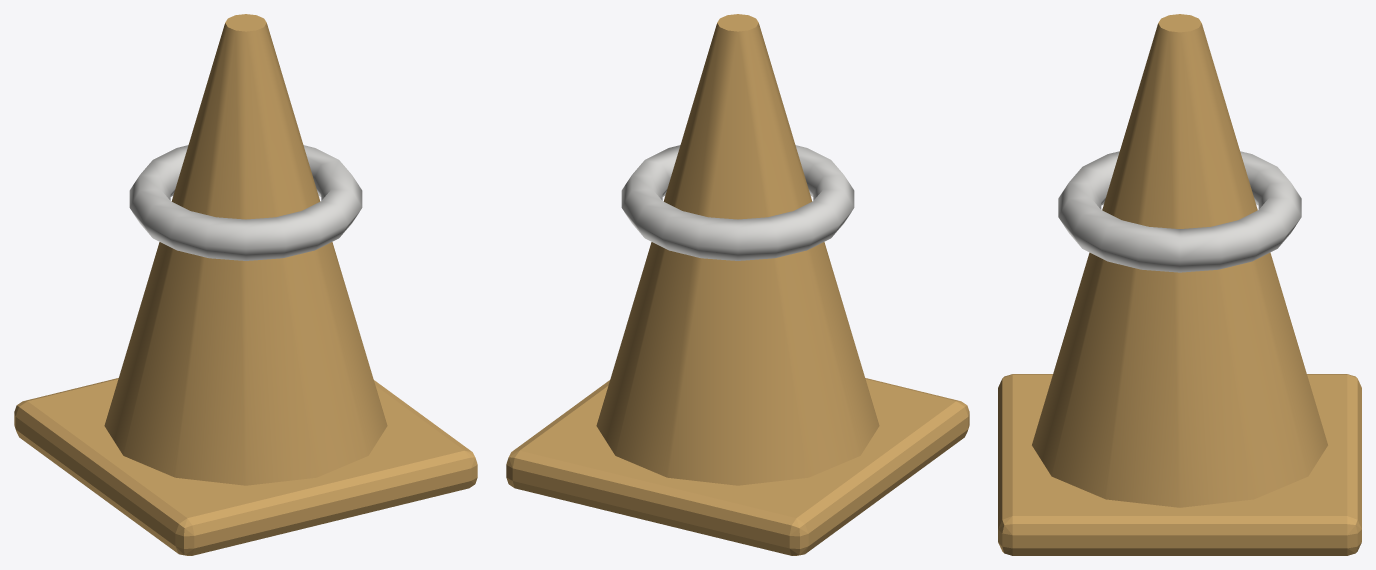
The picture shows the model from 3 angles, left to right: view 1: azimuth 30°, elevation 25°; view 2: azimuth 150°, elevation 25°; view 3: azimuth 270°, elevation 25°; orthographic projection. The views are drawn at different scales.
Visible parts, largest first — view 1: cone_Palette; view 2: cone_Palette; view 3: cone_Palette.
Boxes of the visible parts, box(x1,y1,x2,y2) form: cone_Palette: box(14, 14, 477, 555); cone_Palette: box(506, 14, 969, 555); cone_Palette: box(998, 14, 1361, 555).
Bounding box in the file's own units: 0.5 × 0.7 × 0.5.
